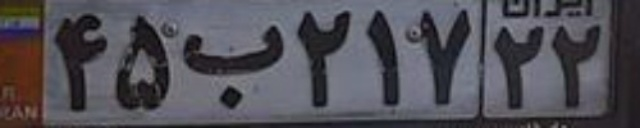1: (362, 10, 399, 106)
2: (299, 10, 351, 107), (491, 26, 547, 108), (551, 25, 600, 108)
4: (50, 14, 104, 110)
5: (112, 14, 174, 111)
7: (415, 8, 473, 106)
be: (182, 24, 285, 109)
